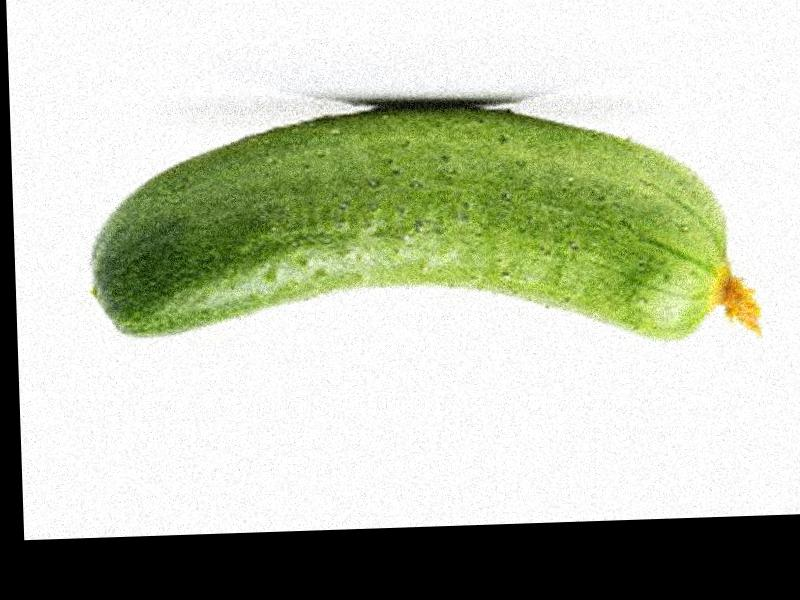Cucumber: (83, 91, 768, 362)
